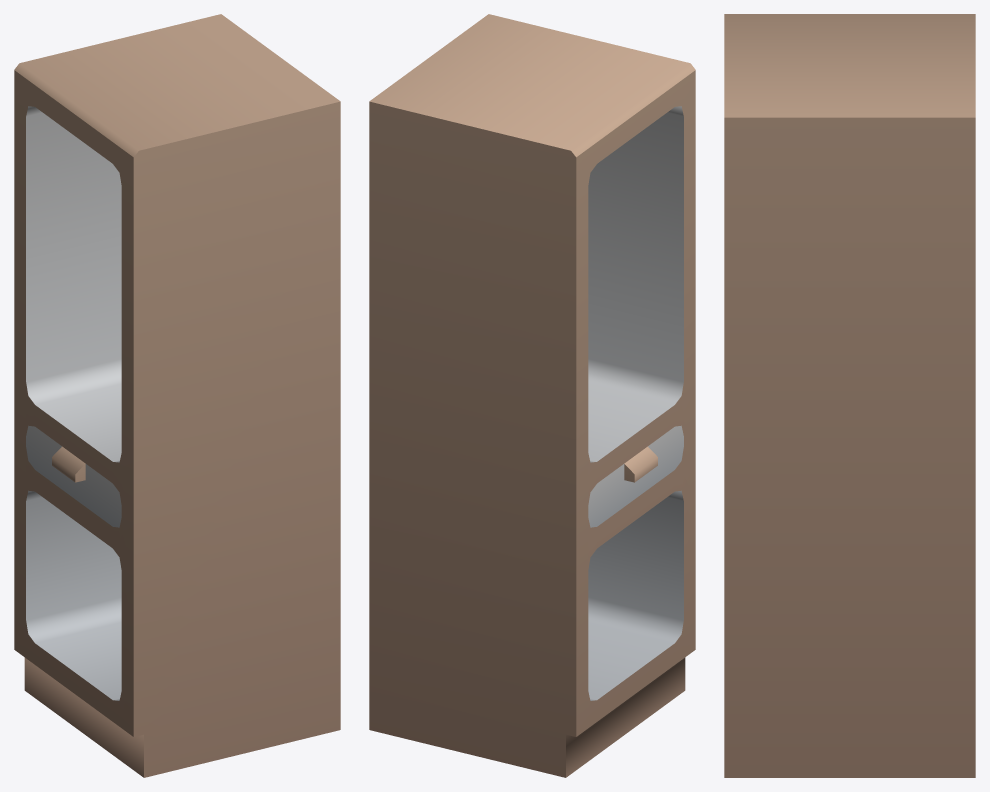
File: cabinet-basic-high.glb
3 renders of one model, left to right at view 1: azimuth 30°, elevation 25°; view 2: azimuth 150°, elevation 25°; view 3: azimuth 270°, elevation 25°, orthographic. The views are drawn at different scales.
Visible parts, largest first — view 1: cabinet-basic-high; view 2: cabinet-basic-high; view 3: cabinet-basic-high.
Boxes of the visible parts, x1=… form: cabinet-basic-high: x1=14, y1=14, x2=340, y2=777; cabinet-basic-high: x1=369, y1=14, x2=695, y2=777; cabinet-basic-high: x1=724, y1=14, x2=975, y2=777.
Size of the model in its own units: 0.525 by 1.45 by 0.5.
